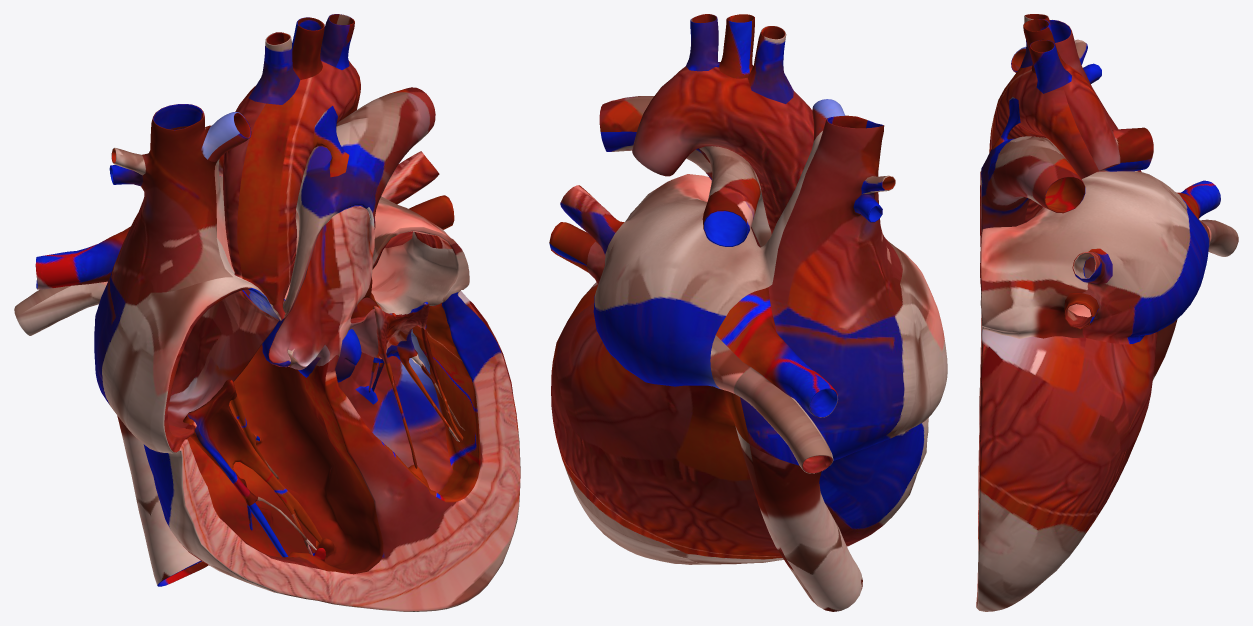
The model's file is human_heart.glb.
The picture shows the model from 3 angles, left to right: view 1: azimuth 30°, elevation 25°; view 2: azimuth 150°, elevation 25°; view 3: azimuth 270°, elevation 25°; orthographic projection. The views are drawn at different scales.
Parts seen in each view (by area): view 1: heart; view 2: heart; view 3: heart.
Boxes of the visible parts, x1,y1,x2,y2 form: heart: (14,14,520,611); heart: (549,14,947,611); heart: (976,14,1238,611).
Bounding box in the file's own units: 11.42 × 17.03 × 7.59.
1 material, 1 textured.
